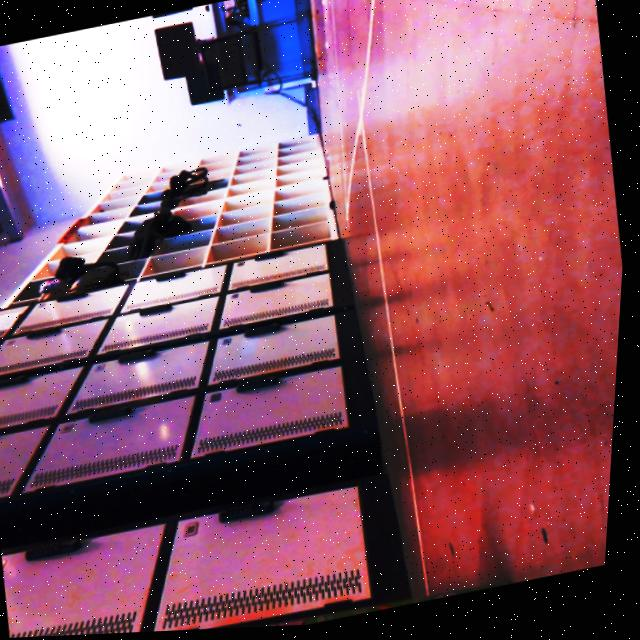greenpringles: (158, 551, 549, 633)
